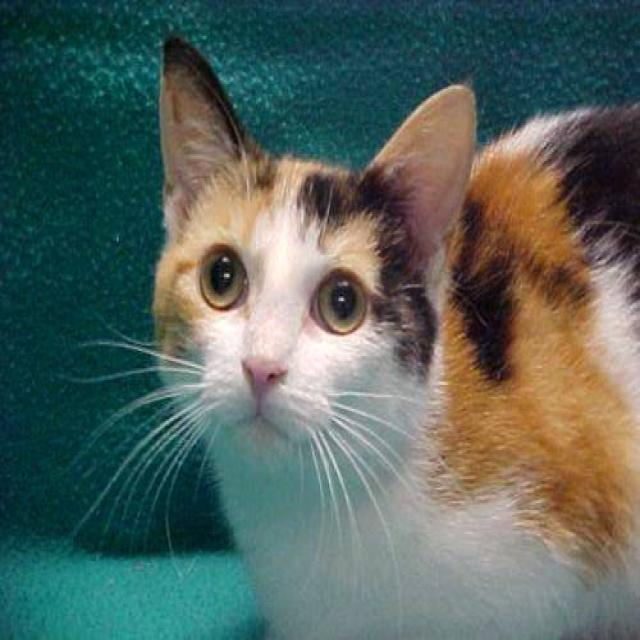cat: (59, 32, 639, 638)
